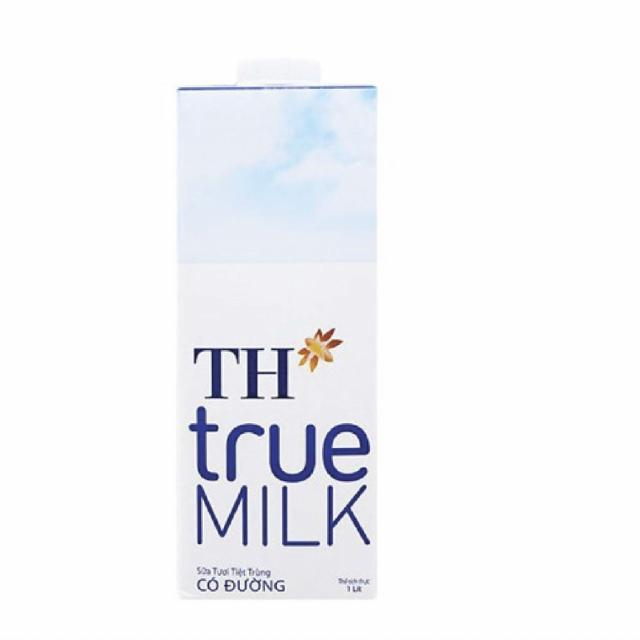non_white_jug: (154, 33, 386, 590)
